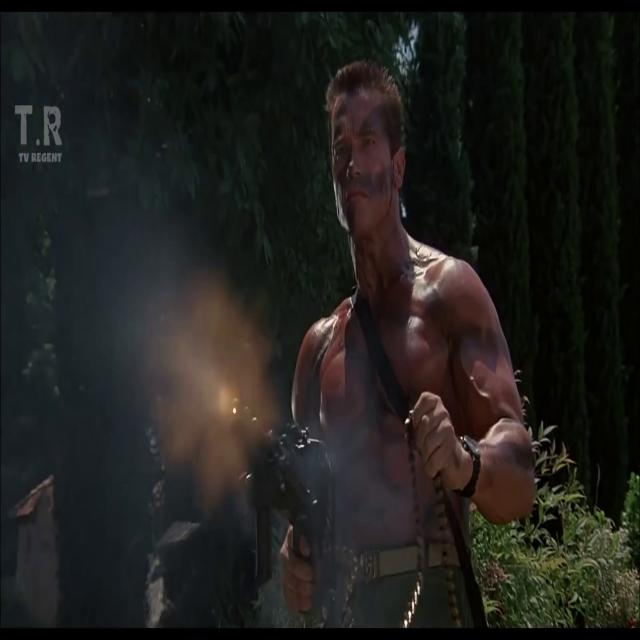long weapon: (188, 350, 372, 619)
